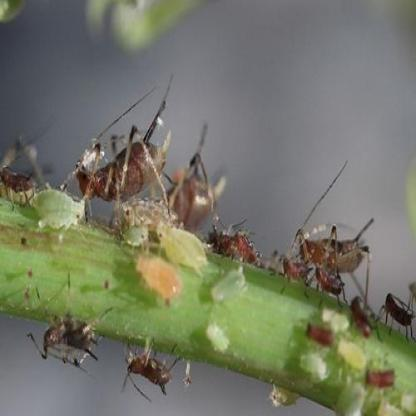aphid: (77, 110, 171, 210), (291, 207, 375, 277), (161, 148, 225, 228), (30, 312, 102, 374), (120, 328, 180, 398), (201, 207, 262, 267), (148, 223, 210, 272), (31, 186, 89, 238), (126, 250, 186, 298), (0, 126, 31, 204), (204, 259, 250, 309), (104, 202, 152, 249), (273, 244, 311, 288), (334, 333, 369, 375), (351, 294, 380, 343), (384, 293, 415, 337), (317, 266, 352, 303), (304, 310, 332, 356), (334, 376, 366, 416), (203, 307, 228, 357), (292, 349, 329, 380), (318, 300, 350, 335), (267, 382, 304, 412), (359, 364, 397, 391), (380, 391, 416, 416)
